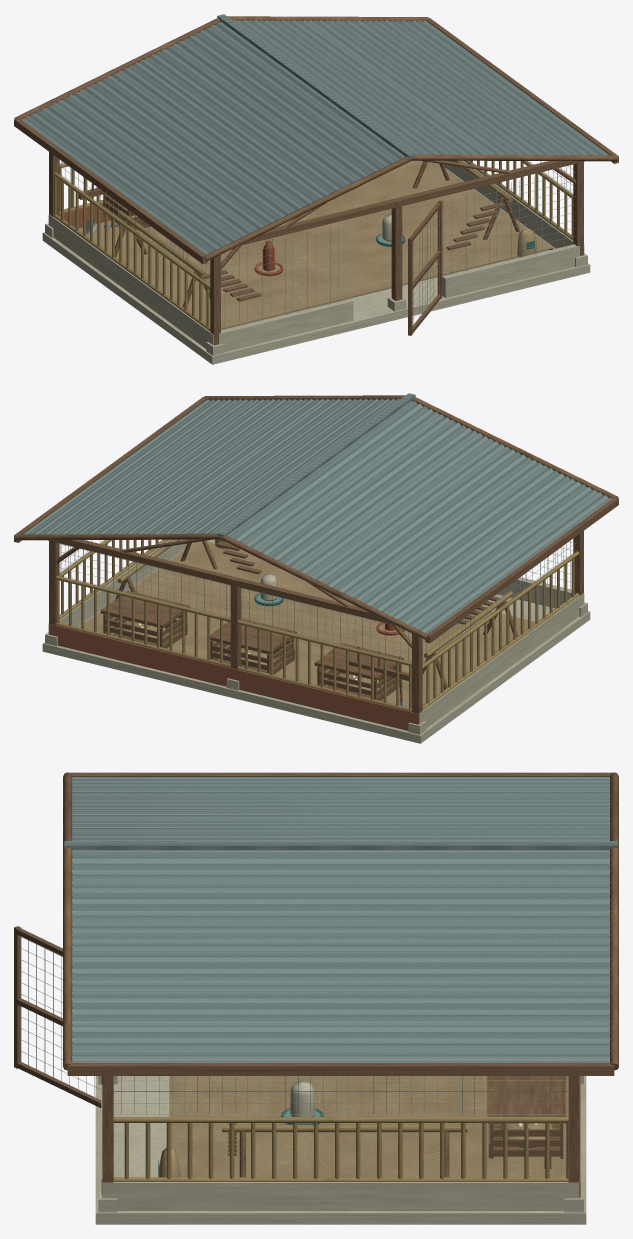
File: coop.glb
3 views of the same model, one above another, from view 1: azimuth 30°, elevation 25°; view 2: azimuth 150°, elevation 25°; view 3: azimuth 270°, elevation 25° (orthographic). The views are drawn at different scales.
Visible parts, largest first — view 1: roof_corrugated_aged_zinc_roof, dry_rice_husk_bedding, walls_hand_trowelled_lime_concrete, roof_warm_weathered_hardwood, lime_concrete_foundation, frame_warm_weathered_hardwood, walls_warm_weathered_Indonesian_bamboo, walls_fine_galvanized_enclosure_wire, roosts_warm_weathered_hardwood, entry_gate_warm_weathered_hardwood, roosts_warm_weathered_Indonesian_bamboo, entry_gate_fine_galvanized_enclosure_wire (+3 smaller); view 2: roof_corrugated_aged_zinc_roof, dry_rice_husk_bedding, walls_warm_weathered_Indonesian_bamboo, roof_warm_weathered_hardwood, raised_nesting_box_warm_weathered_hardwood (×3), low_back_masonry, frame_warm_weathered_hardwood, lime_concrete_foundation, walls_hand_trowelled_lime_concrete, walls_fine_galvanized_enclosure_wire, roosts_warm_weathered_hardwood, roosts_warm_weathered_Indonesian_bamboo (+2 smaller); view 3: roof_corrugated_aged_zinc_roof, dry_rice_husk_bedding, roof_warm_weathered_hardwood, walls_hand_trowelled_lime_concrete, lime_concrete_foundation, walls_warm_weathered_Indonesian_bamboo, raised_nesting_box_warm_weathered_hardwood, walls_fine_galvanized_enclosure_wire, frame_warm_weathered_hardwood, entry_gate_warm_weathered_hardwood, roosts_warm_weathered_Indonesian_bamboo, entry_gate_fine_galvanized_enclosure_wire (+3 smaller).
Boxes of the visible parts, box(x1,y1,x2,y2) form: roof_corrugated_aged_zinc_roof: box(21, 14, 609, 254); dry_rice_husk_bedding: box(78, 160, 553, 329); walls_hand_trowelled_lime_concrete: box(48, 160, 584, 351); roof_warm_weathered_hardwood: box(14, 16, 618, 264); lime_concrete_foundation: box(42, 168, 590, 364); frame_warm_weathered_hardwood: box(49, 152, 584, 345); walls_warm_weathered_Indonesian_bamboo: box(53, 160, 573, 330); walls_fine_galvanized_enclosure_wire: box(55, 158, 575, 330); roosts_warm_weathered_hardwood: box(115, 161, 519, 307); entry_gate_warm_weathered_hardwood: box(408, 200, 442, 335); roosts_warm_weathered_Indonesian_bamboo: box(117, 160, 512, 277); entry_gate_fine_galvanized_enclosure_wire: box(412, 209, 439, 326); roof_corrugated_aged_zinc_roof: box(23, 393, 611, 633); dry_rice_husk_bedding: box(79, 541, 535, 707); walls_warm_weathered_Indonesian_bamboo: box(56, 539, 579, 711); roof_warm_weathered_hardwood: box(14, 395, 618, 643); raised_nesting_box_warm_weathered_hardwood (×3): box(100, 590, 403, 700); low_back_masonry: box(49, 624, 418, 730); frame_warm_weathered_hardwood: box(48, 531, 583, 723); lime_concrete_foundation: box(42, 539, 590, 743); walls_hand_trowelled_lime_concrete: box(48, 539, 584, 727); walls_fine_galvanized_enclosure_wire: box(57, 537, 577, 662); roosts_warm_weathered_hardwood: box(115, 539, 517, 689); roosts_warm_weathered_Indonesian_bamboo: box(117, 539, 512, 658); roof_corrugated_aged_zinc_roof: box(64, 777, 617, 1062); dry_rice_husk_bedding: box(169, 1076, 568, 1177); roof_warm_weathered_hardwood: box(63, 772, 618, 1075); walls_hand_trowelled_lime_concrete: box(101, 1084, 579, 1210); lime_concrete_foundation: box(95, 1076, 586, 1224); walls_warm_weathered_Indonesian_bamboo: box(113, 1117, 568, 1181); raised_nesting_box_warm_weathered_hardwood: box(487, 1076, 565, 1168); walls_fine_galvanized_enclosure_wire: box(113, 1076, 568, 1114); frame_warm_weathered_hardwood: box(102, 1076, 579, 1197); entry_gate_warm_weathered_hardwood: box(14, 926, 102, 1107); roosts_warm_weathered_Indonesian_bamboo: box(222, 1124, 467, 1132); entry_gate_fine_galvanized_enclosure_wire: box(20, 936, 101, 1100).
Bounding box in the file's own units: 9.91 × 3.91 × 8.63.
Materials: 15 (5 with a texture image).
